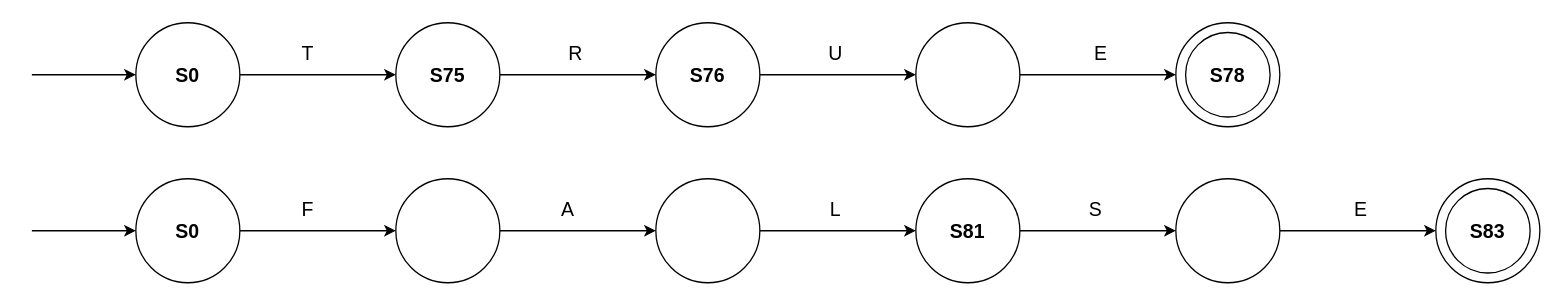
Image size: 1563x306. Some labels were removed from this diagram. The centre of each missing label's shape, as x and y in pixels:
S77: pixel 967 74
S79: pixel 447 230
S80: pixel 707 230
S82: pixel 1227 230
